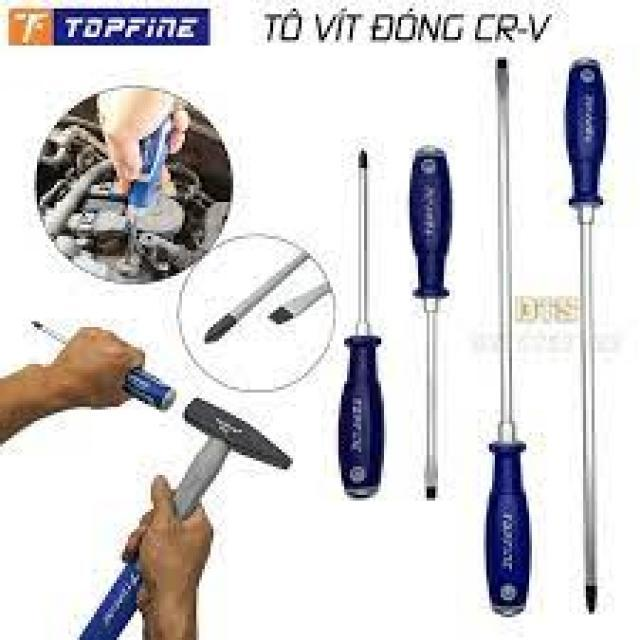hammer: (74, 392, 296, 640)
screwdriver: (559, 52, 610, 618), (482, 52, 533, 616), (404, 136, 458, 506), (336, 144, 386, 516), (21, 310, 178, 412), (116, 110, 176, 272)
